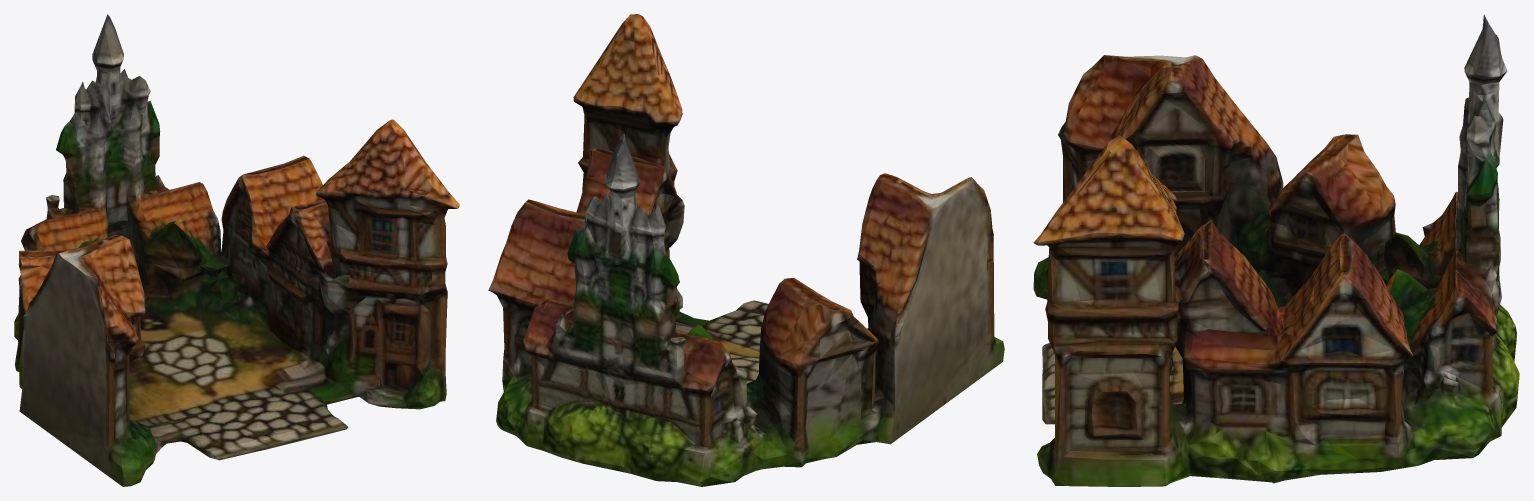
File: village_path_scene_lod1.glb
The picture shows the model from 3 angles, left to right: view 1: azimuth 30°, elevation 25°; view 2: azimuth 150°, elevation 25°; view 3: azimuth 270°, elevation 25°; orthographic projection. The views are drawn at different scales.
Visible parts, largest first — view 1: village_path_scene_lod1; view 2: village_path_scene_lod1; view 3: village_path_scene_lod1.
Part boxes in pixels (x1,y1,x2,y2): village_path_scene_lod1: [14, 14, 459, 486]; village_path_scene_lod1: [488, 14, 1004, 486]; village_path_scene_lod1: [1033, 14, 1519, 486].
Bounding box in the file's own units: 15.93 × 13.48 × 15.92.
Materials: 1 (1 with a texture image).
